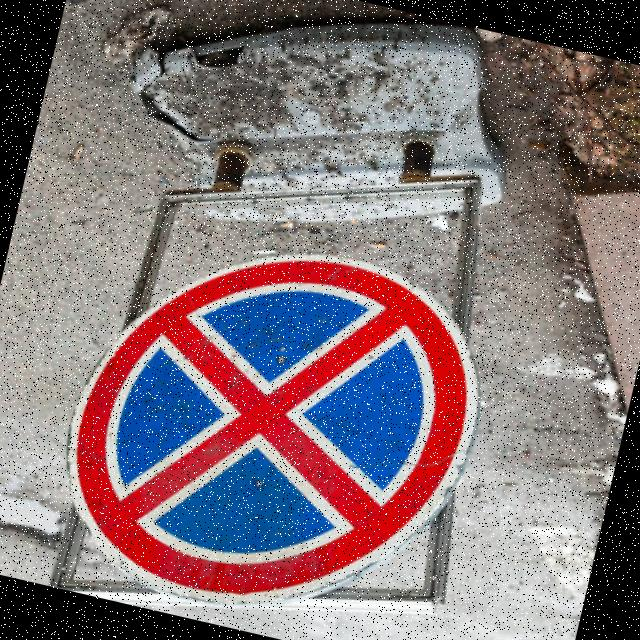no_parking: (22, 197, 519, 640)
